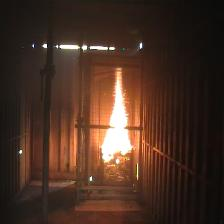fire: (100, 68, 134, 163)
